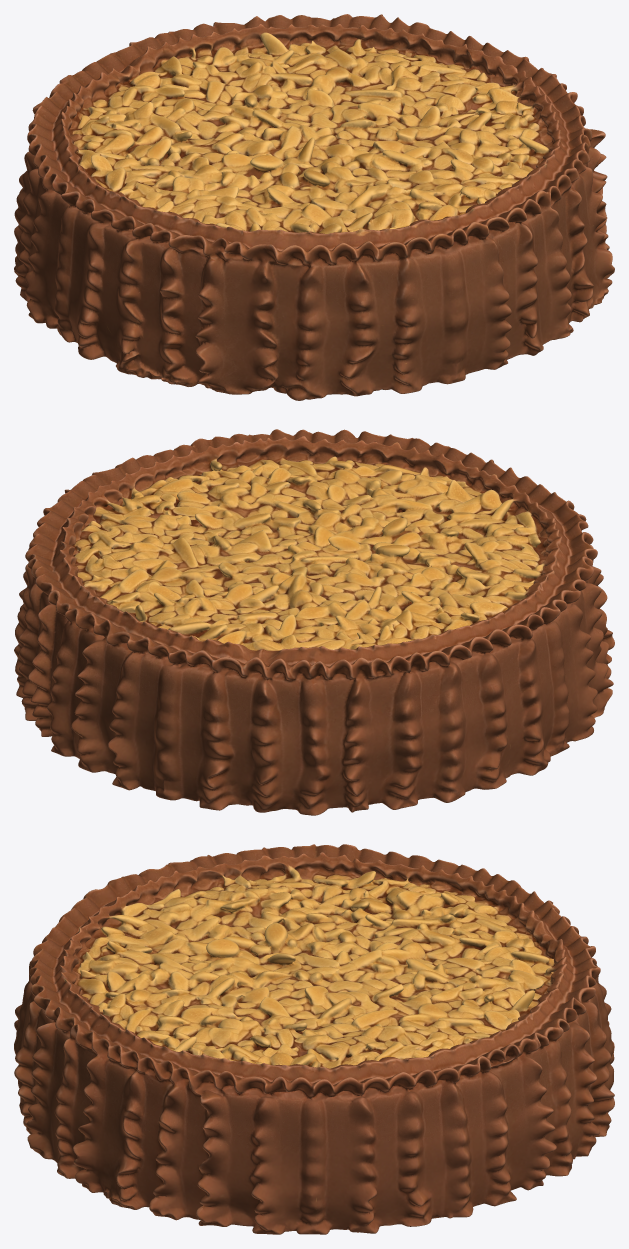
Rendered from cakee2.glb.
The picture shows the model from 3 angles, top to bottom: view 1: azimuth 30°, elevation 25°; view 2: azimuth 150°, elevation 25°; view 3: azimuth 270°, elevation 25°; orthographic projection.
Size of the model in its own units: 1.87 by 0.5205 by 1.87.
Materials: 1 (1 with a texture image).
